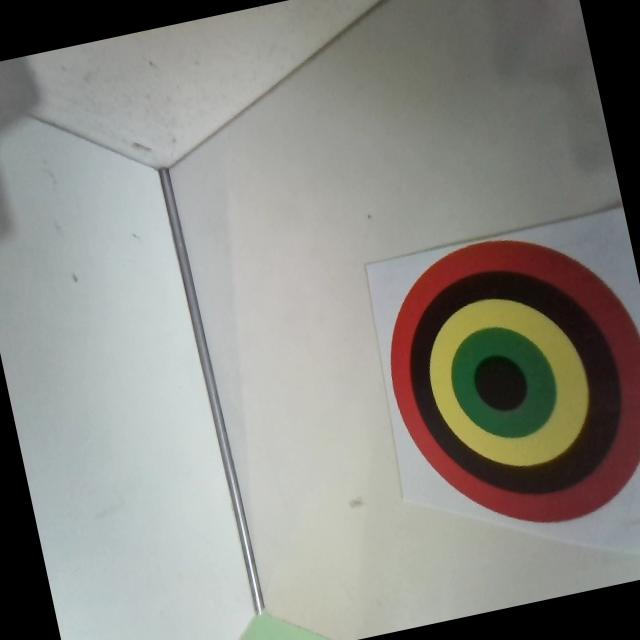cogn: (363, 212, 640, 555)
